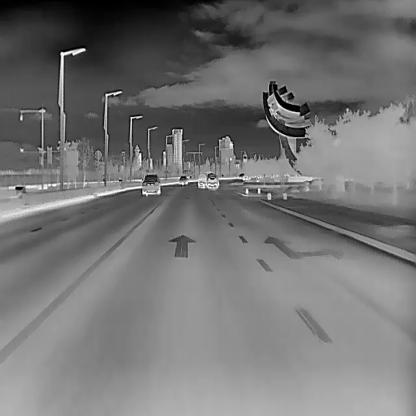car: (141, 172, 162, 195), (205, 173, 219, 190), (197, 172, 209, 188), (178, 175, 187, 185)
